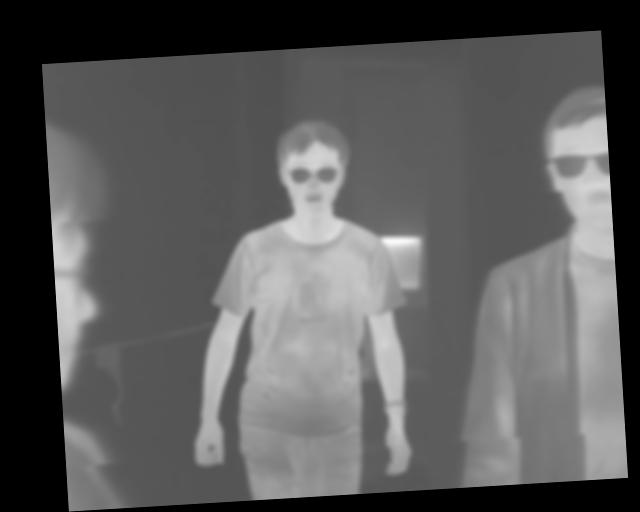face: (538, 81, 613, 234), (273, 115, 354, 219)
